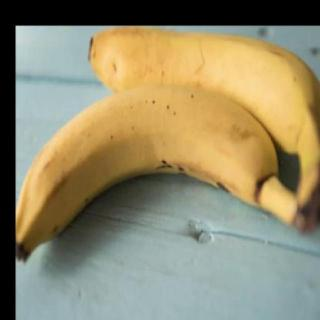banana: (14, 82, 278, 264), (86, 23, 320, 158)
